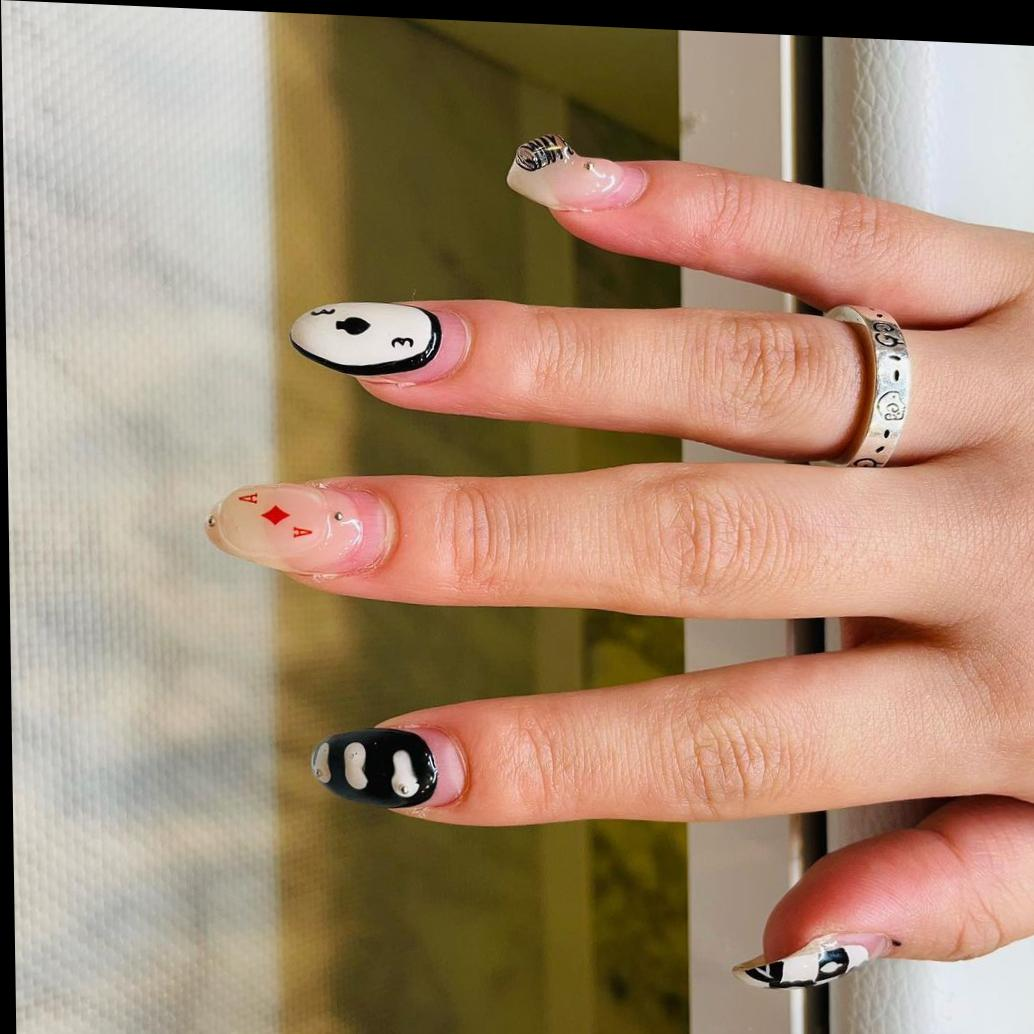nail: (204, 478, 399, 584), (287, 297, 471, 390), (505, 131, 651, 218), (309, 724, 441, 813), (731, 927, 891, 997)
